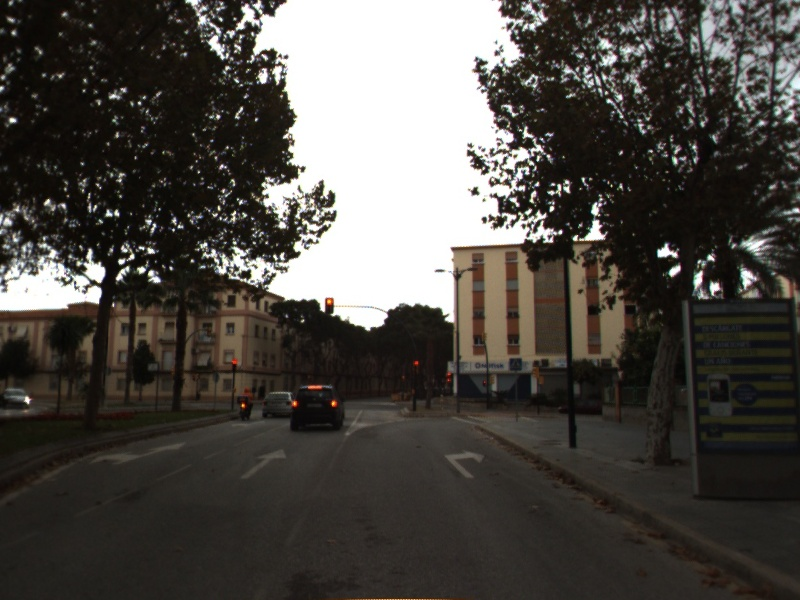RIGHT: (442, 448, 487, 480)
STRAIGHT: (238, 447, 289, 481)
STRAIGHT_LEFT: (86, 440, 188, 467)
